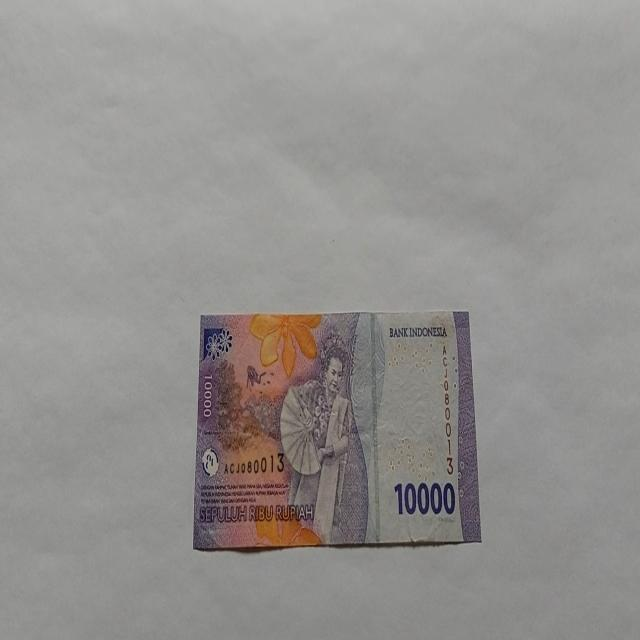sepuluh ribu rupiah: (192, 309, 481, 551)
